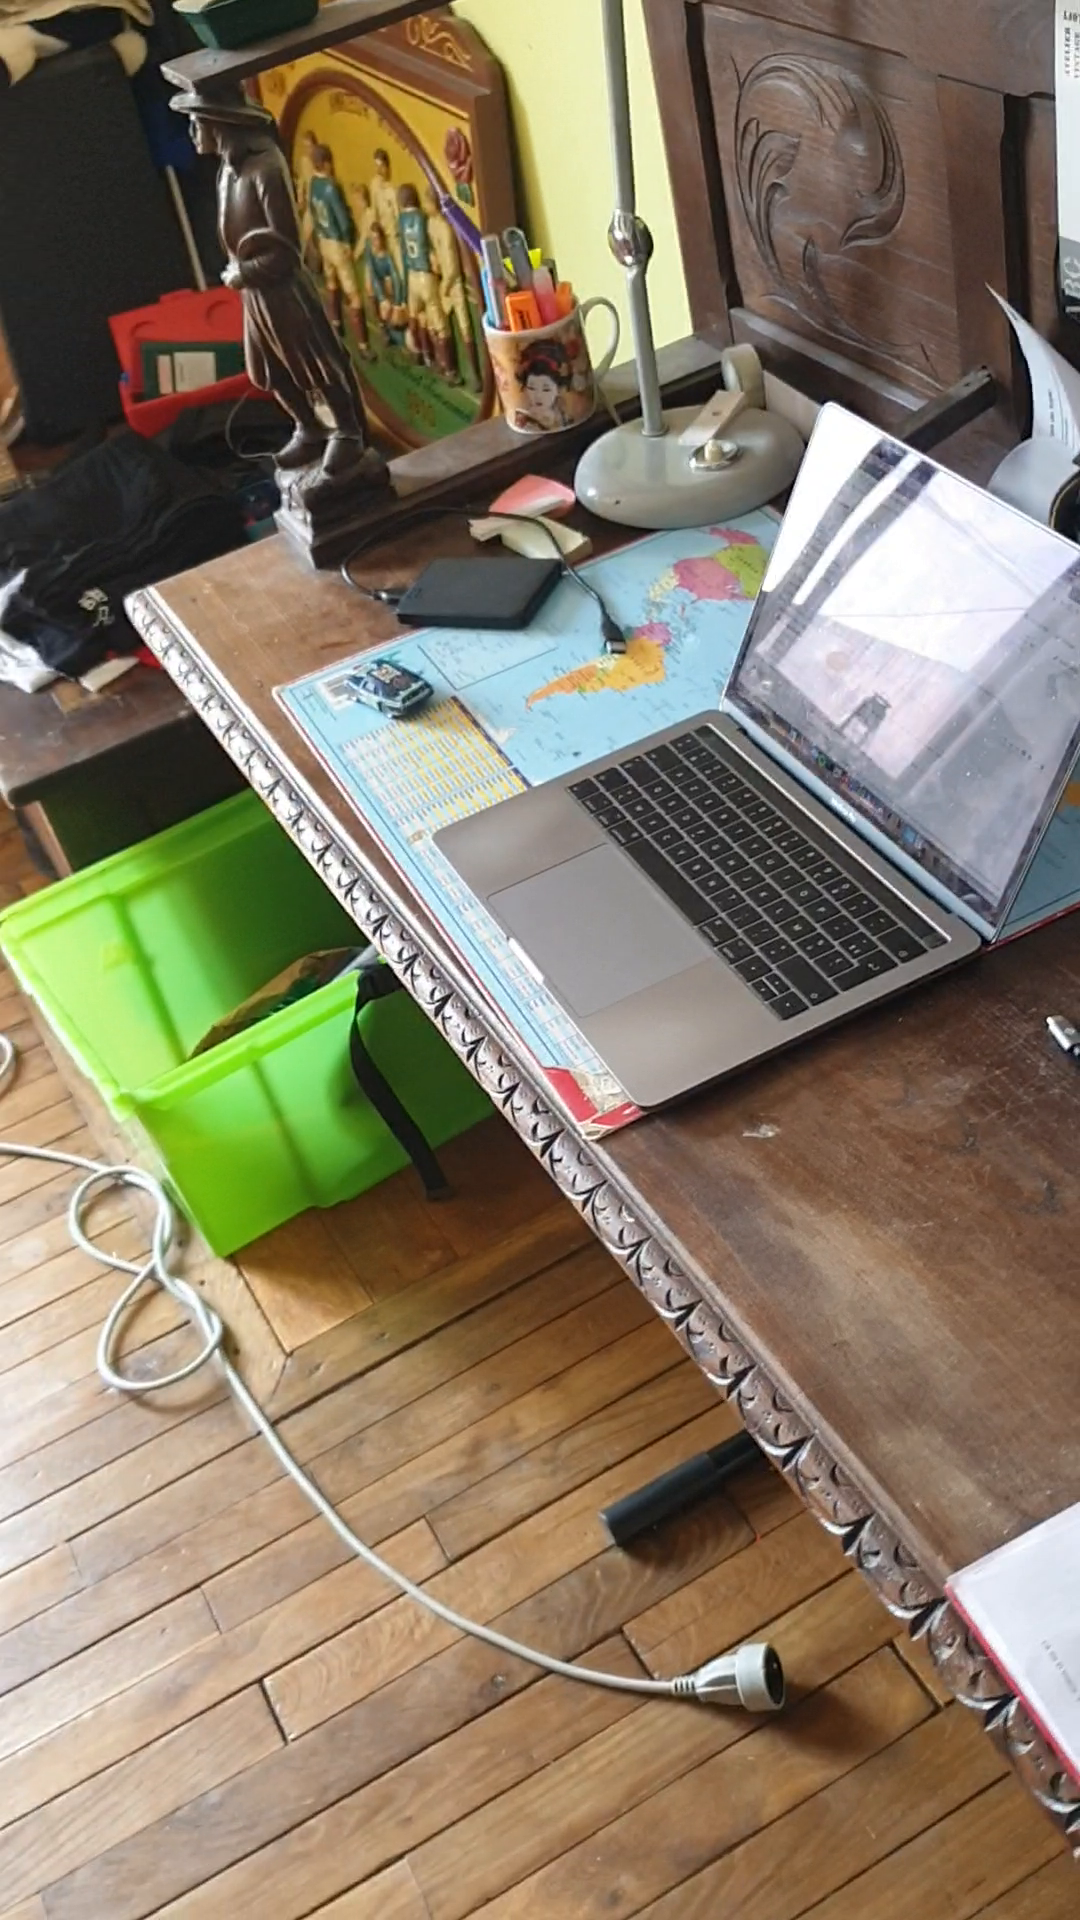cars: (342, 657, 434, 720)
